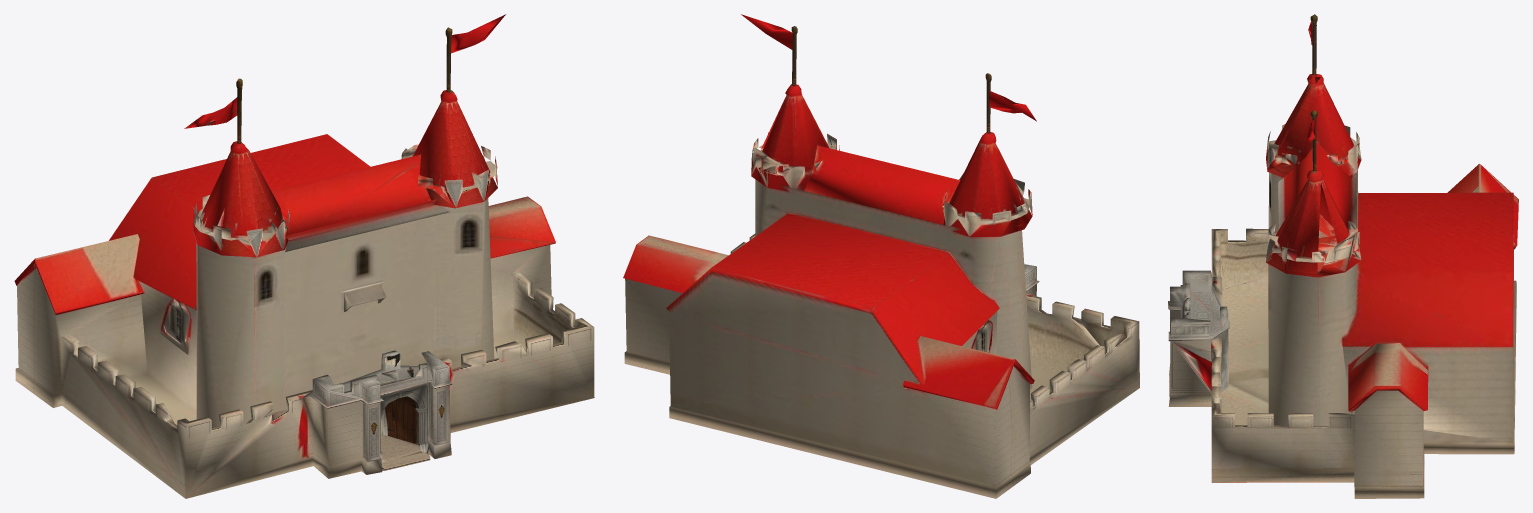
Rendered from coral-city.glb.
3 views of the same model, side by side, from view 1: azimuth 30°, elevation 25°; view 2: azimuth 150°, elevation 25°; view 3: azimuth 270°, elevation 25° (orthographic). The views are drawn at different scales.
Size of the model in its own units: 0.9565 by 0.7143 by 0.6846.
1 material, 1 textured.
